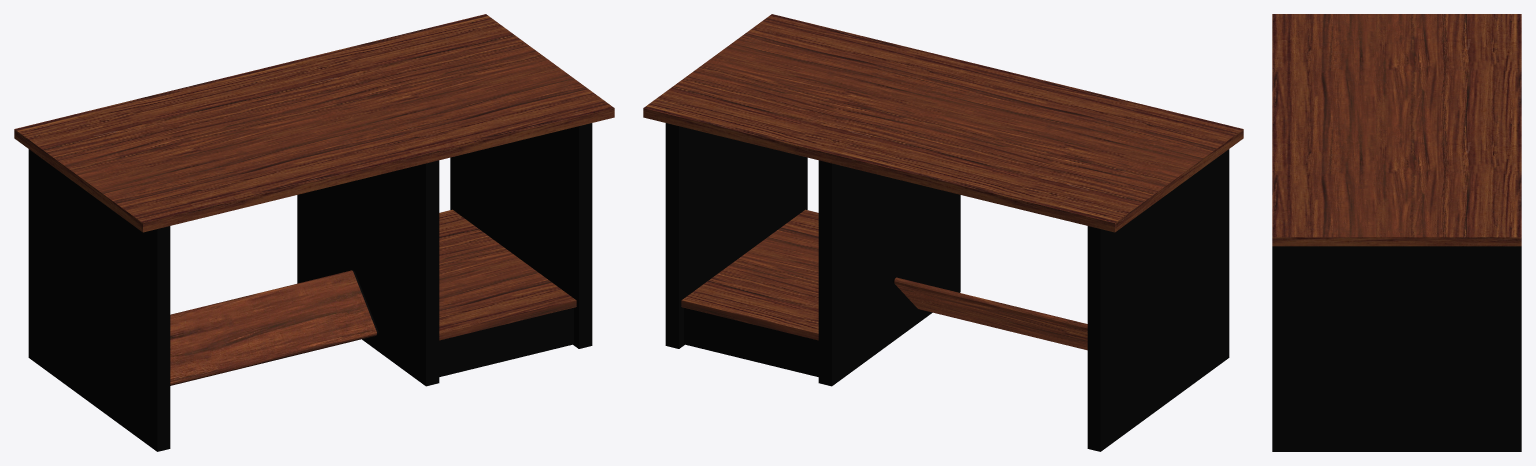
File: table_4.glb
3 views of the same model, side by side, from view 1: azimuth 30°, elevation 25°; view 2: azimuth 150°, elevation 25°; view 3: azimuth 270°, elevation 25° (orthographic). The views are drawn at different scales.
Parts seen in each view (by area): view 1: Meja_Visual.004; view 2: Meja_Visual.004; view 3: Meja_Visual.004.
Boxes of the visible parts, bbox=[...] form: Meja_Visual.004: bbox=[14, 14, 614, 451]; Meja_Visual.004: bbox=[643, 14, 1243, 451]; Meja_Visual.004: bbox=[1272, 14, 1521, 451].
Bounding box in the file's own units: 4.83 × 2.27 × 2.28.
Materials: 2 (1 with a texture image).
